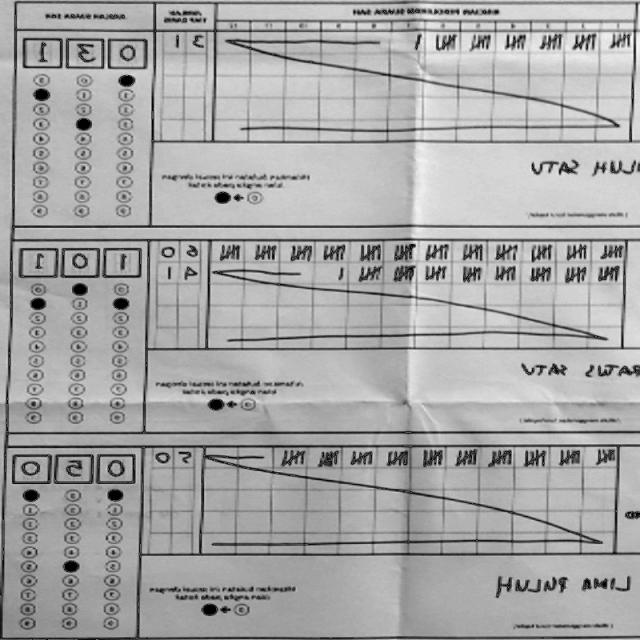Suara: (20, 28, 154, 70), (10, 449, 140, 486), (17, 245, 146, 279)
